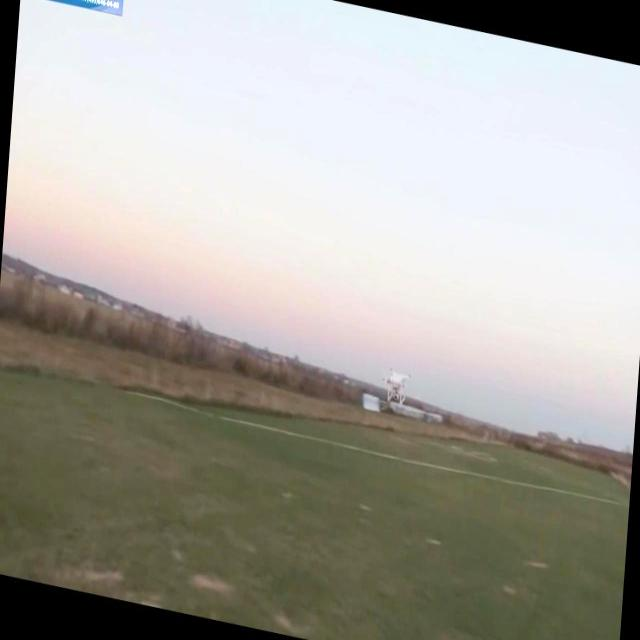drone: (380, 363, 413, 407)
